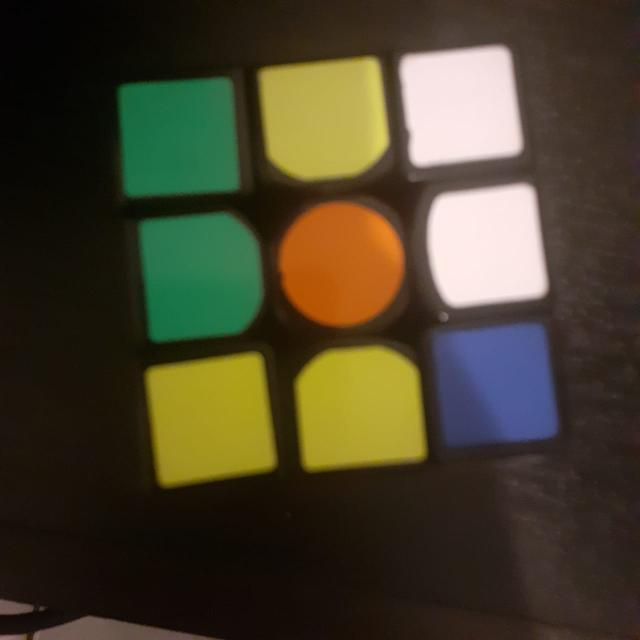Blue: (430, 328, 558, 444)
Green: (130, 219, 260, 343), (116, 82, 240, 192)
Orange: (278, 209, 402, 331)
White: (419, 188, 547, 304), (402, 59, 524, 161)
Yellow: (292, 349, 422, 471), (140, 362, 276, 478), (255, 66, 391, 180)
